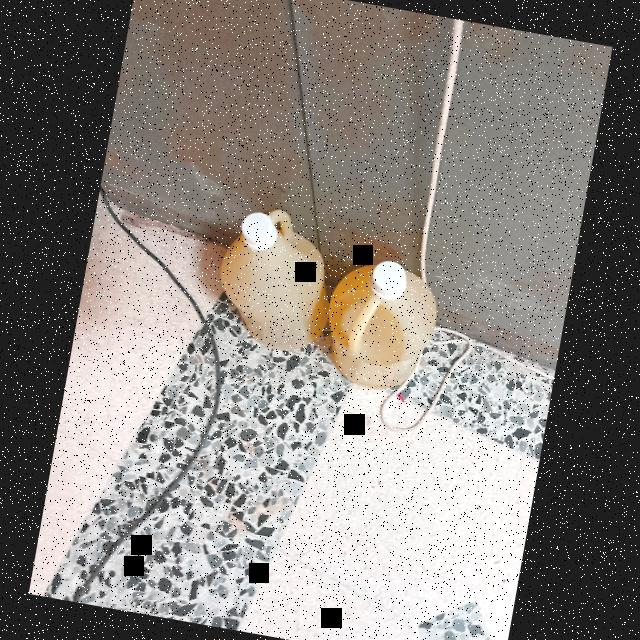chemical_plastic_gallon: (302, 229, 454, 411), (198, 180, 344, 361)
